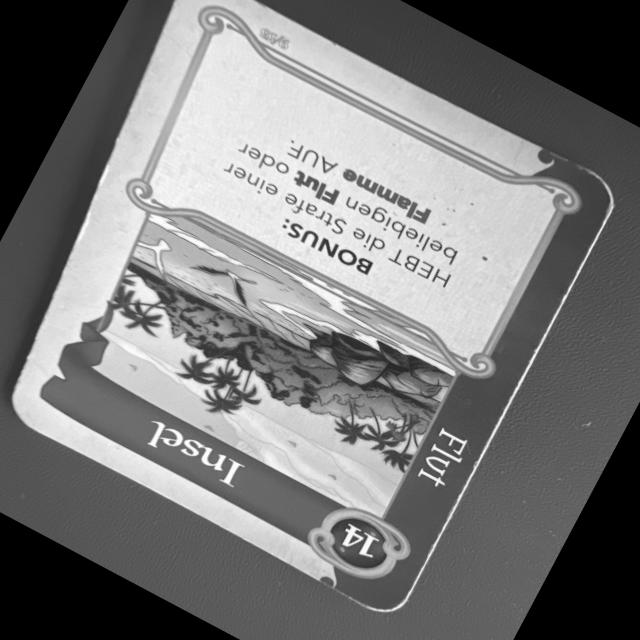Island: (9, 0, 616, 625)
